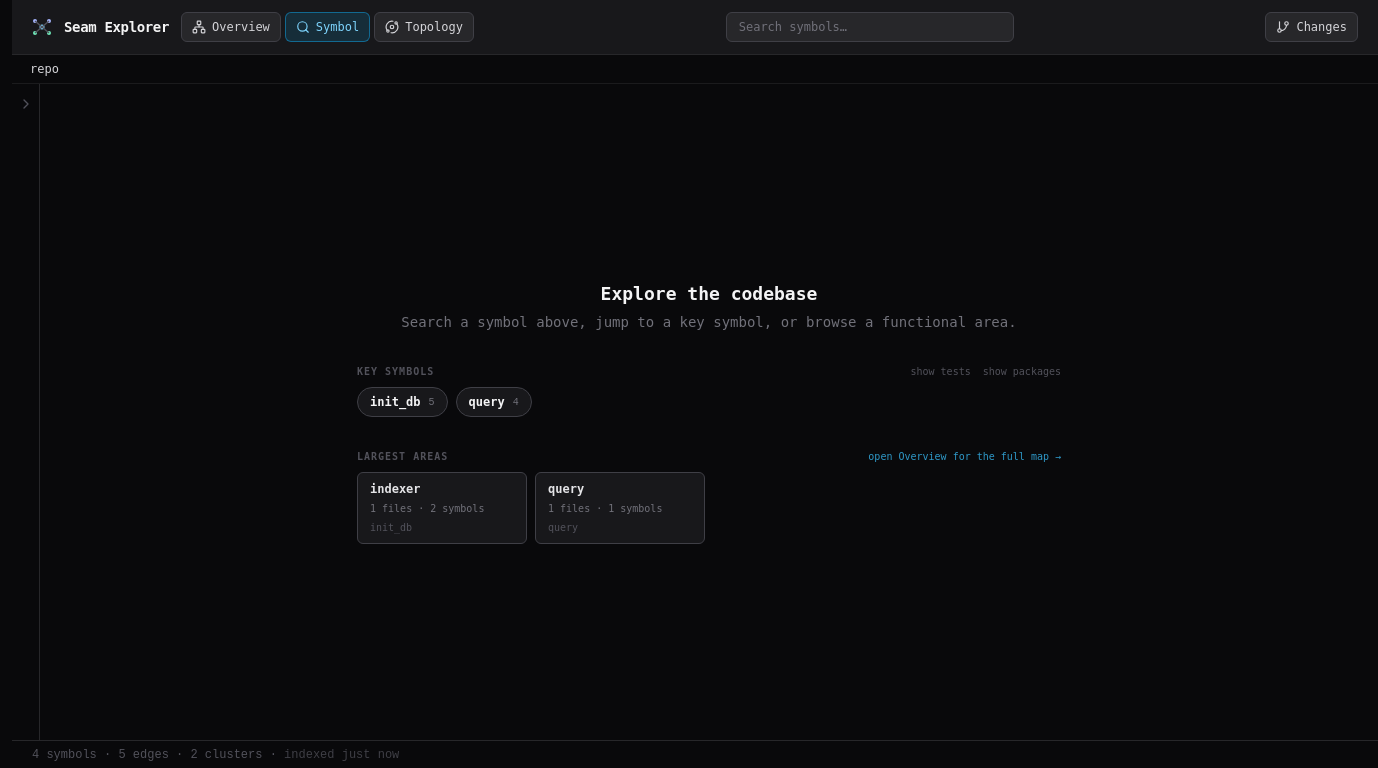
Test: LandingPage – folder-based area cards (B1) › L4: tests area hidden by default, visible after toggle
Expected: the text "indexer" is shown, [370,481,421,497]
Click the button "show tests" at (941, 372), box [910,364,971,379]
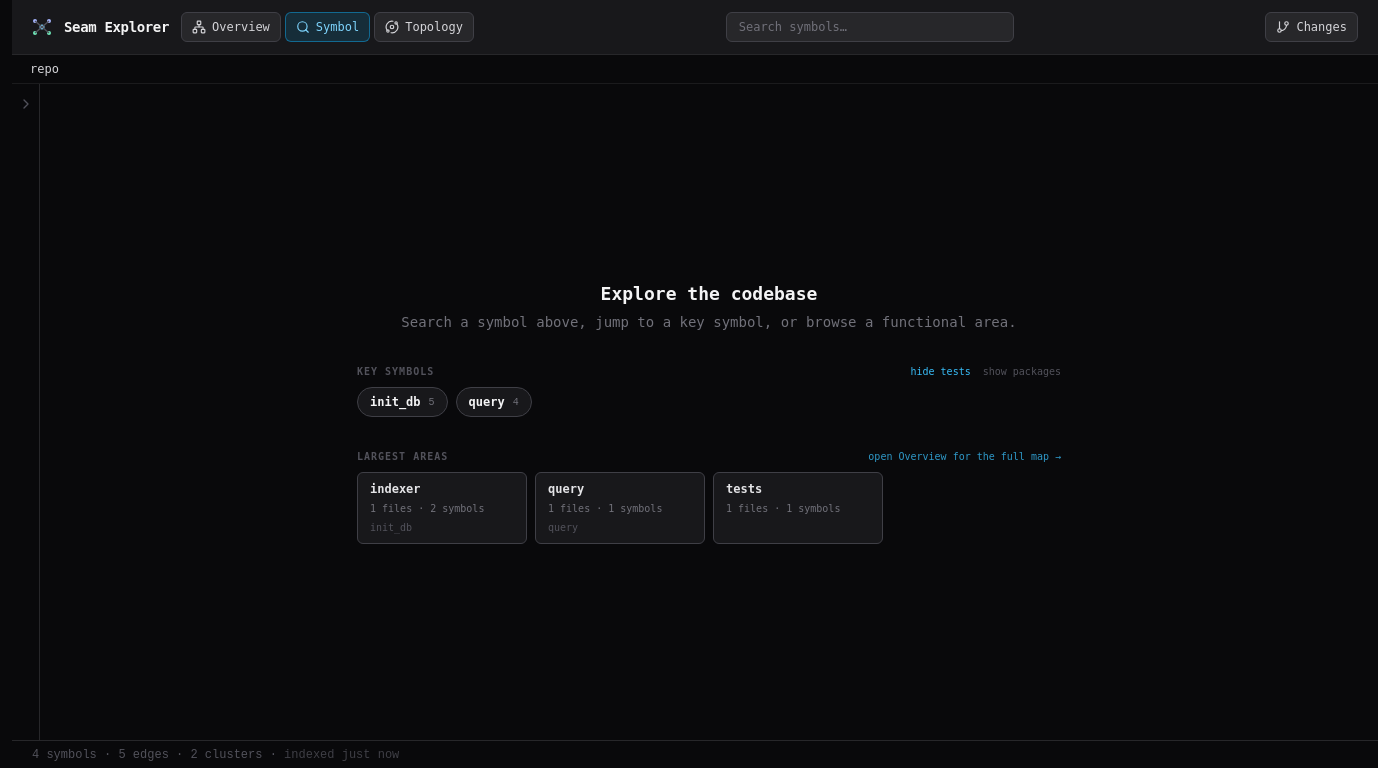
Result: the text "tests" is shown at [726,481,762,497]
